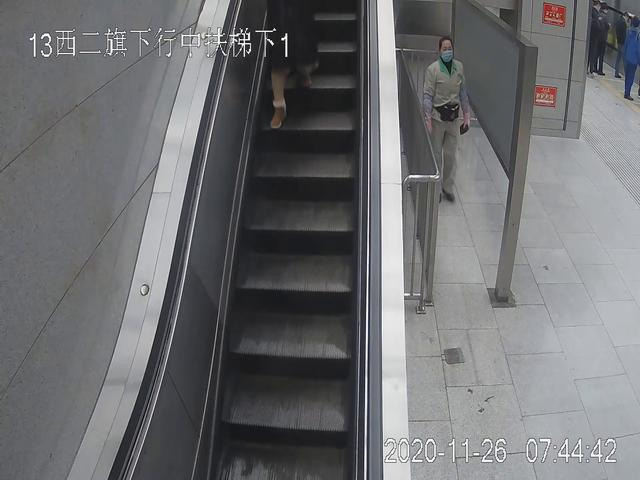person: (420, 37, 470, 203), (621, 18, 640, 100), (593, 4, 610, 78)
